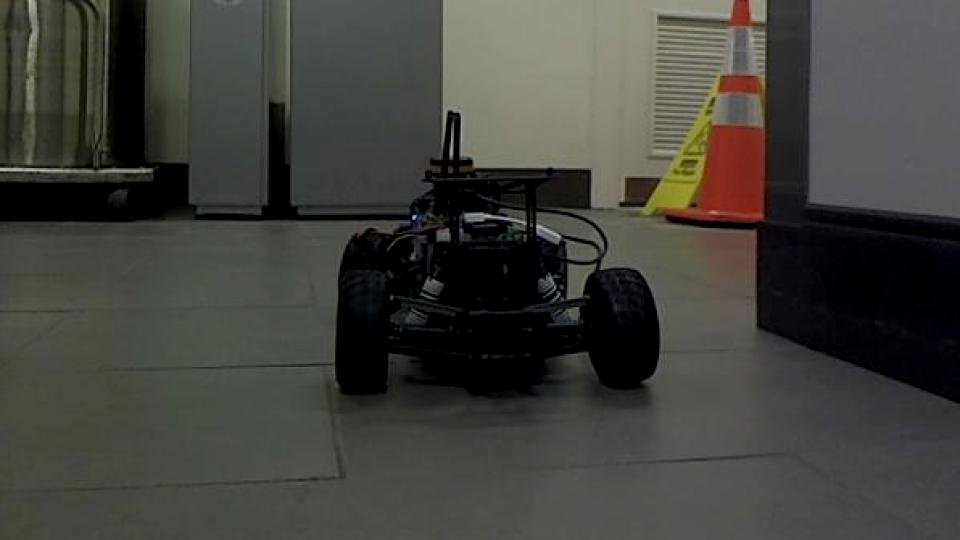car: (330, 108, 664, 398)
